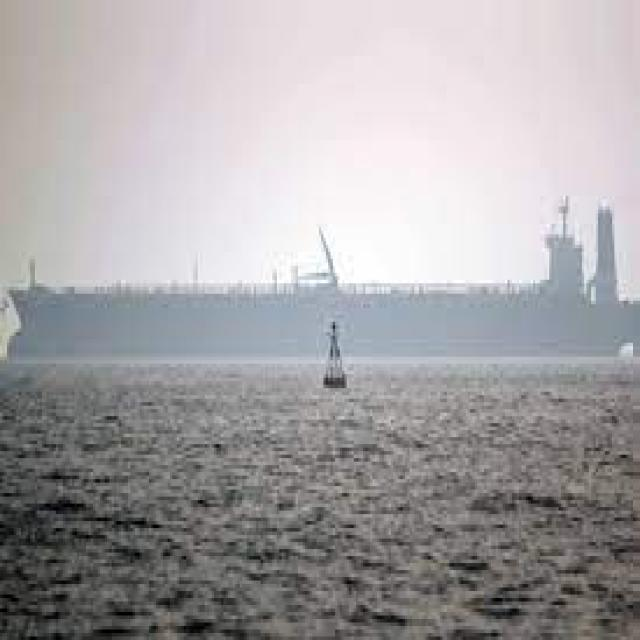cargoship: (6, 179, 640, 363)
sailboat: (310, 312, 354, 390)
